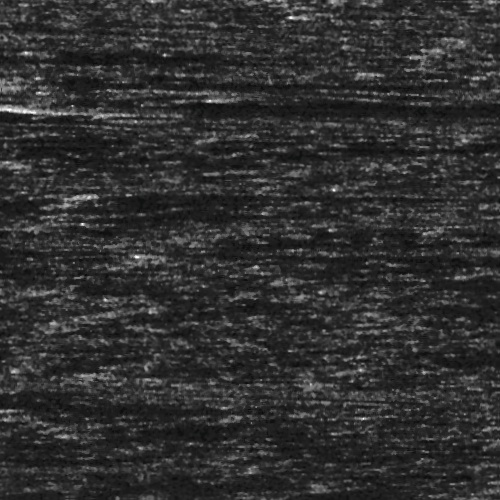object: (0, 100, 153, 117), (0, 75, 31, 90), (56, 192, 119, 199), (0, 50, 30, 63)
shadow: (0, 75, 363, 90), (54, 100, 343, 117), (0, 50, 241, 63), (88, 192, 481, 199)
